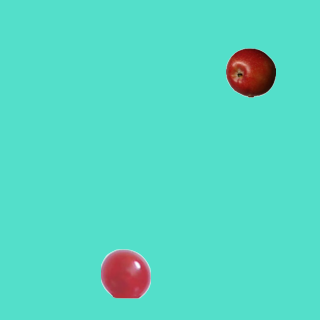Apple Braeburn: (225, 47, 275, 97)
Redcurrant: (100, 248, 150, 298)
